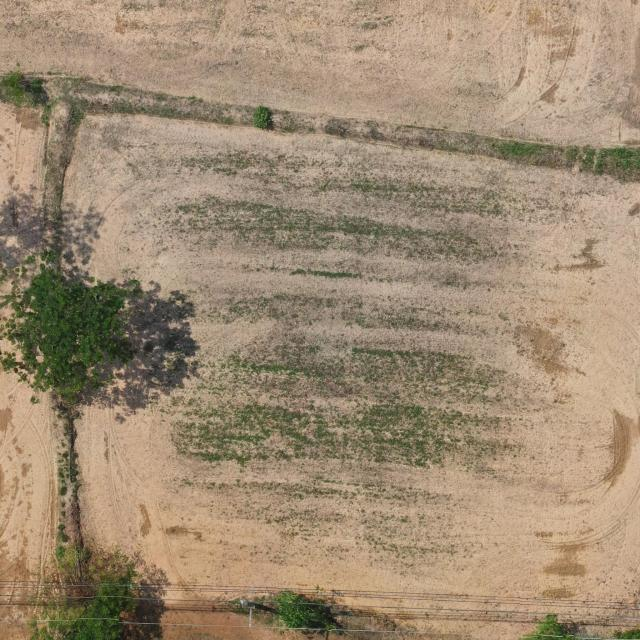Tree: (0, 248, 144, 407), (54, 544, 138, 640), (275, 590, 341, 637)
